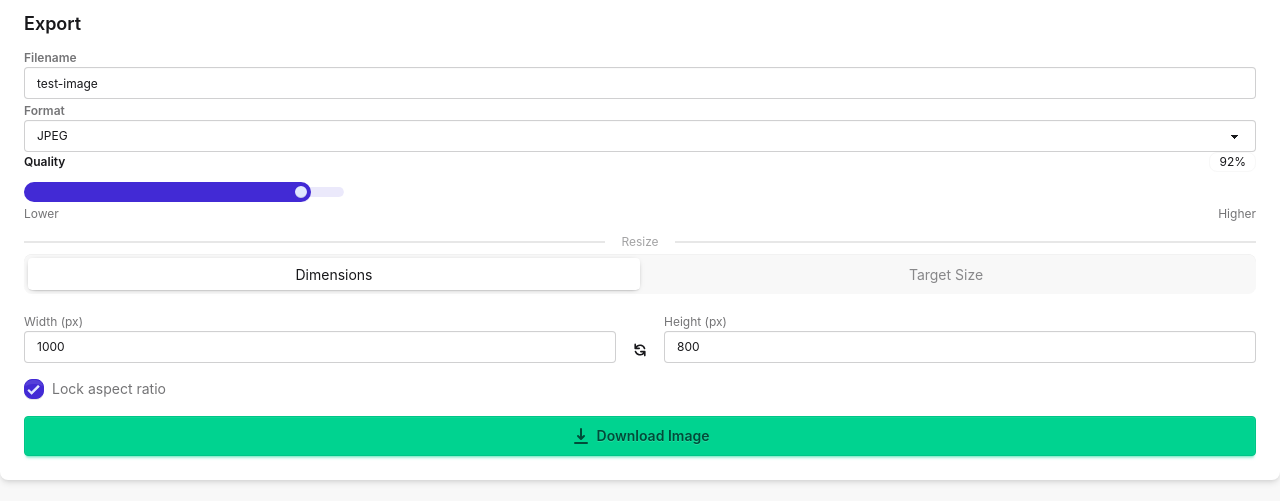
ExportControls - Filename with Timestamp › Target-size / export format consistency (exact-size fix) › surfaces the achieved size so it matches the download
Click the tab "Target Size" at (946, 274), box [909,266,983,283]
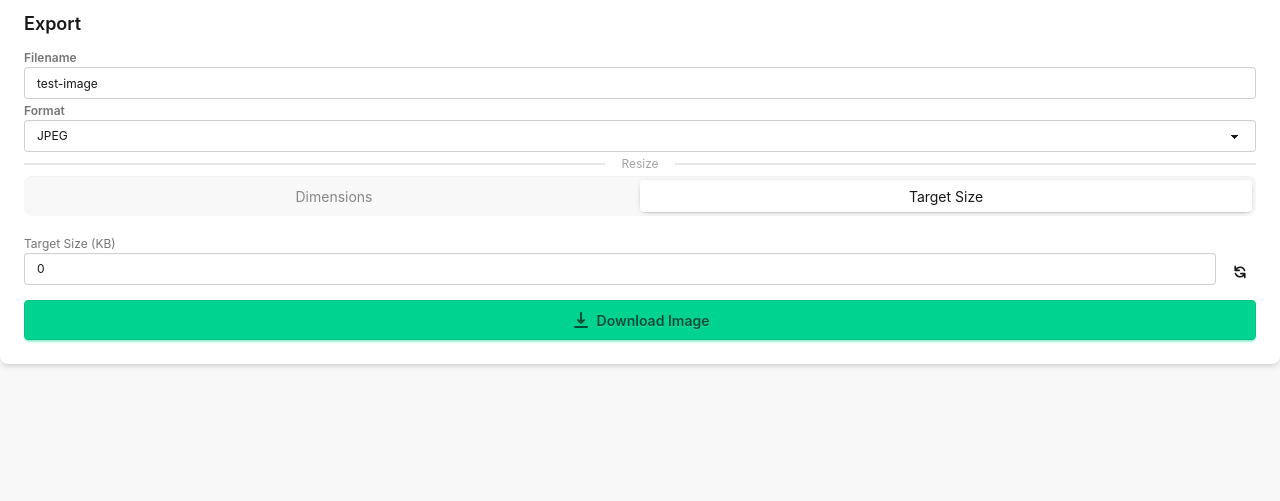
Replace the text in the number field labelled "Target Size (KB)" with "90" at (620, 268), box [24,252,1216,284]
Wait 700 ms
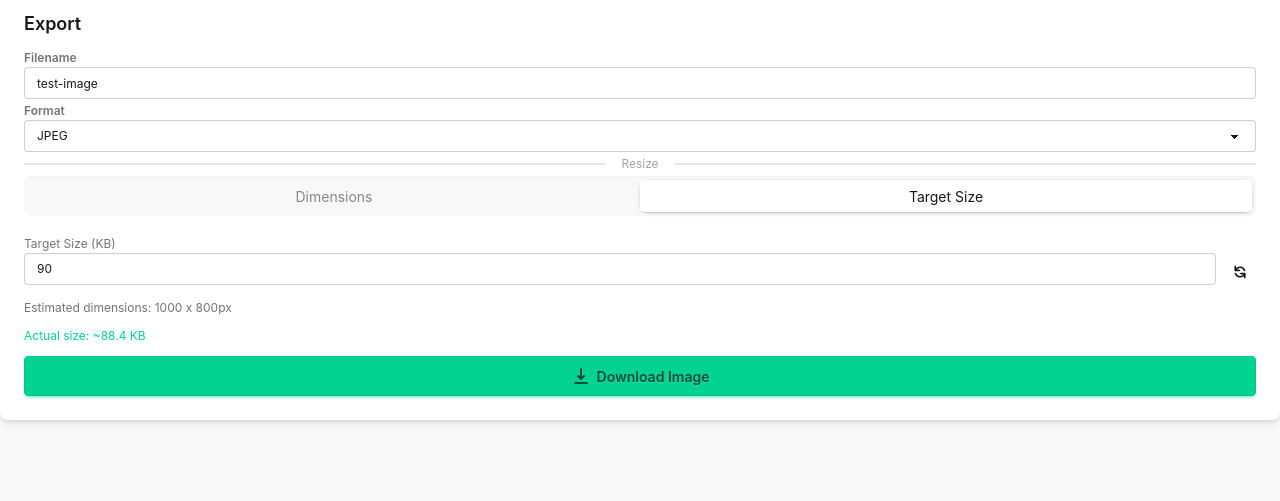
Check: the text "Actual size: ~88.4 KB" is shown, box [24,328,146,343]
